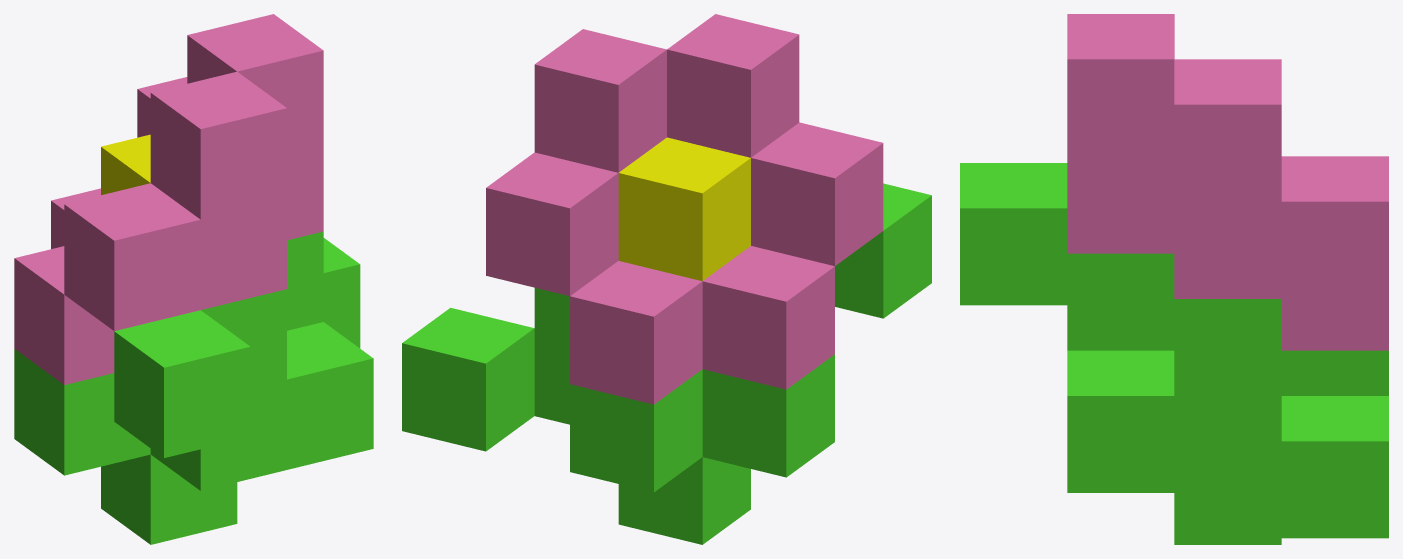
The model's file is tile-65.obj.
3 renders of one model, left to right at view 1: azimuth 30°, elevation 25°; view 2: azimuth 150°, elevation 25°; view 3: azimuth 270°, elevation 25°, orthographic. The views are drawn at different scales.
Bounding box in the file's own units: 0.4 × 0.5 × 0.4.
Materials: 1 (1 with a texture image).
